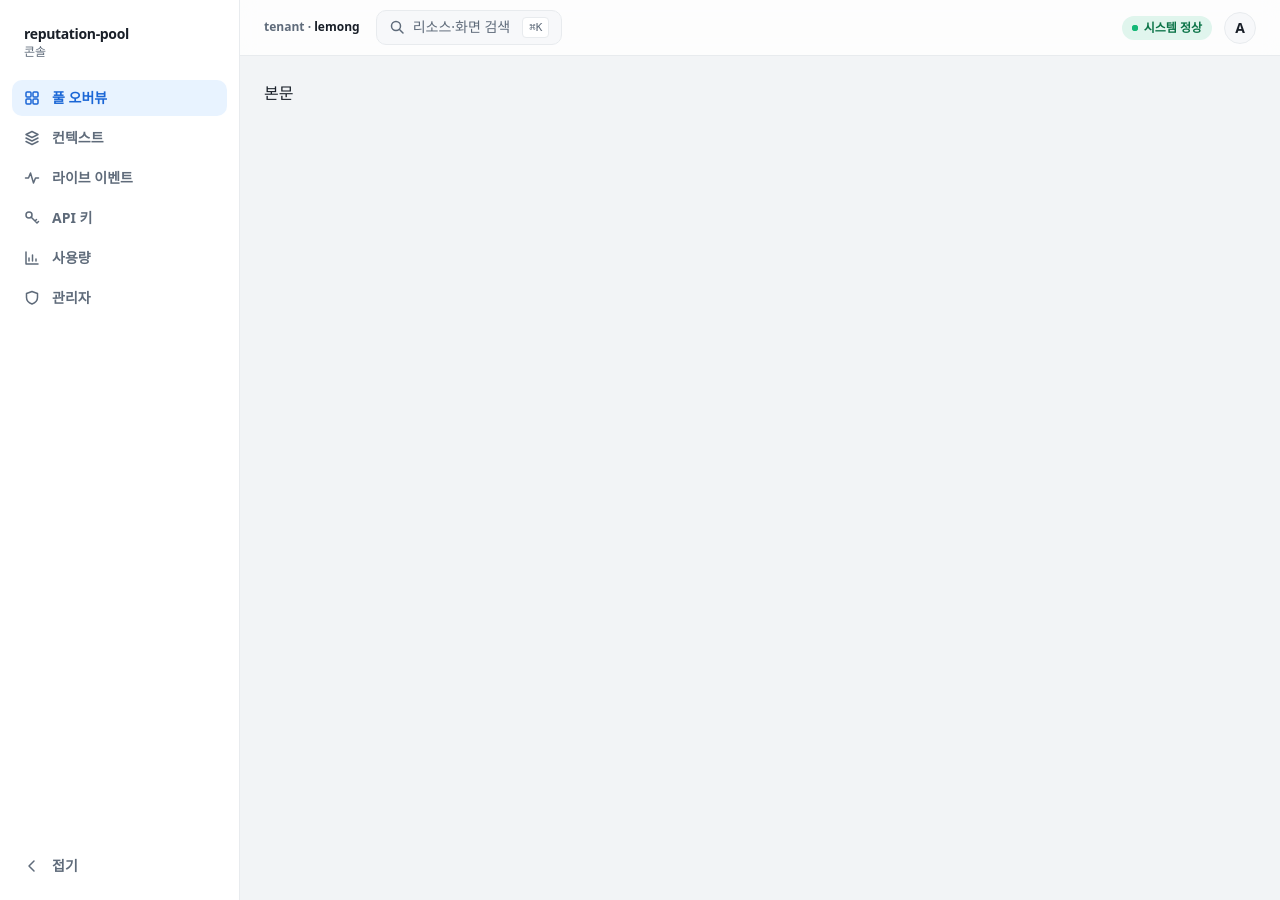
Test case: AppShell — 상단바 › 검색 버튼을 누르면 커맨드 팔레트가 열린다
Expected: the field with placeholder "리소스 값 검색" is not shown
Click the button with aria-label "명령 팔레트 열기" at x=469, y=27, box [376,10,562,45]
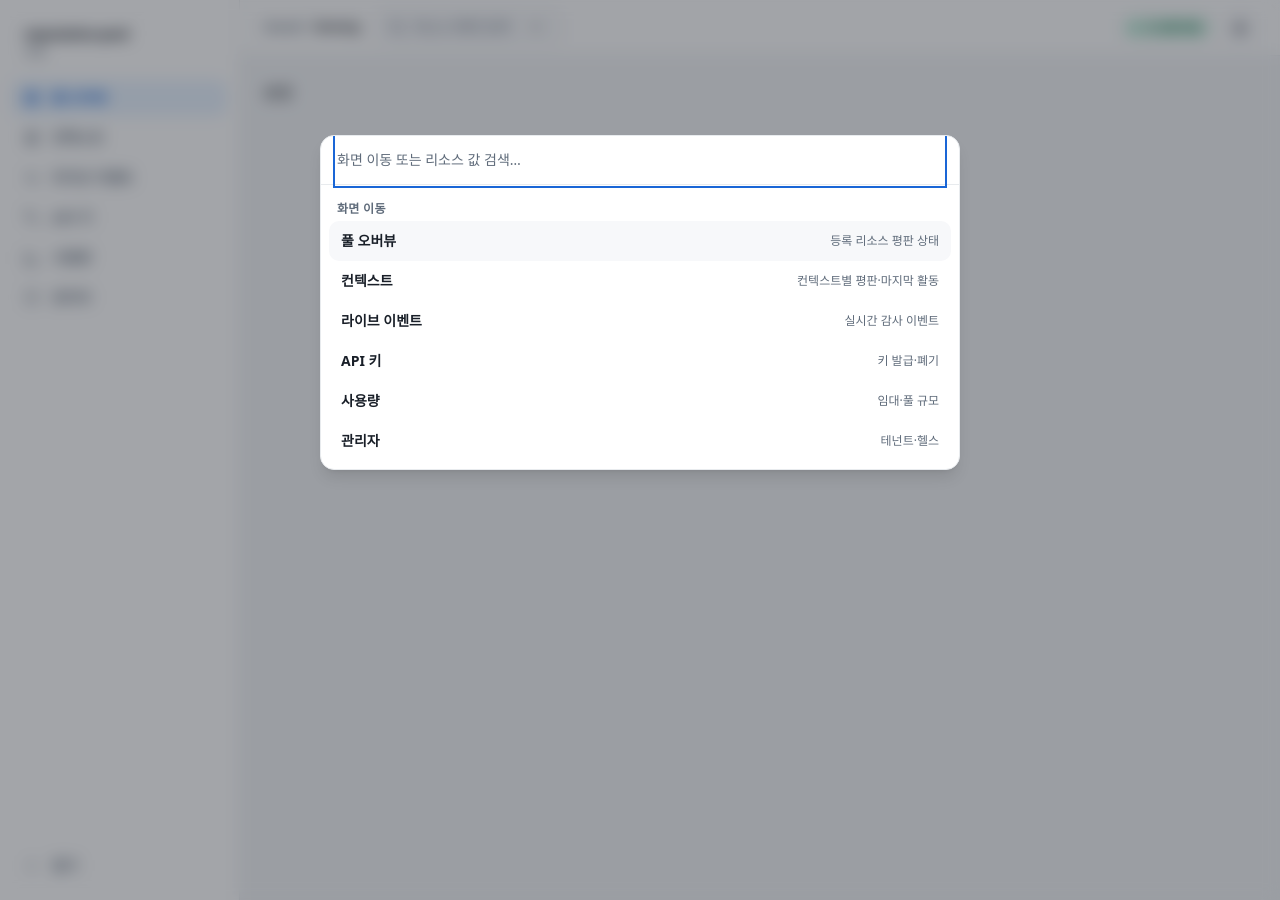
Expected: the dropdown with placeholder "화면 이동 또는 리소스 값 검색…" is shown, [337,136,943,184]
